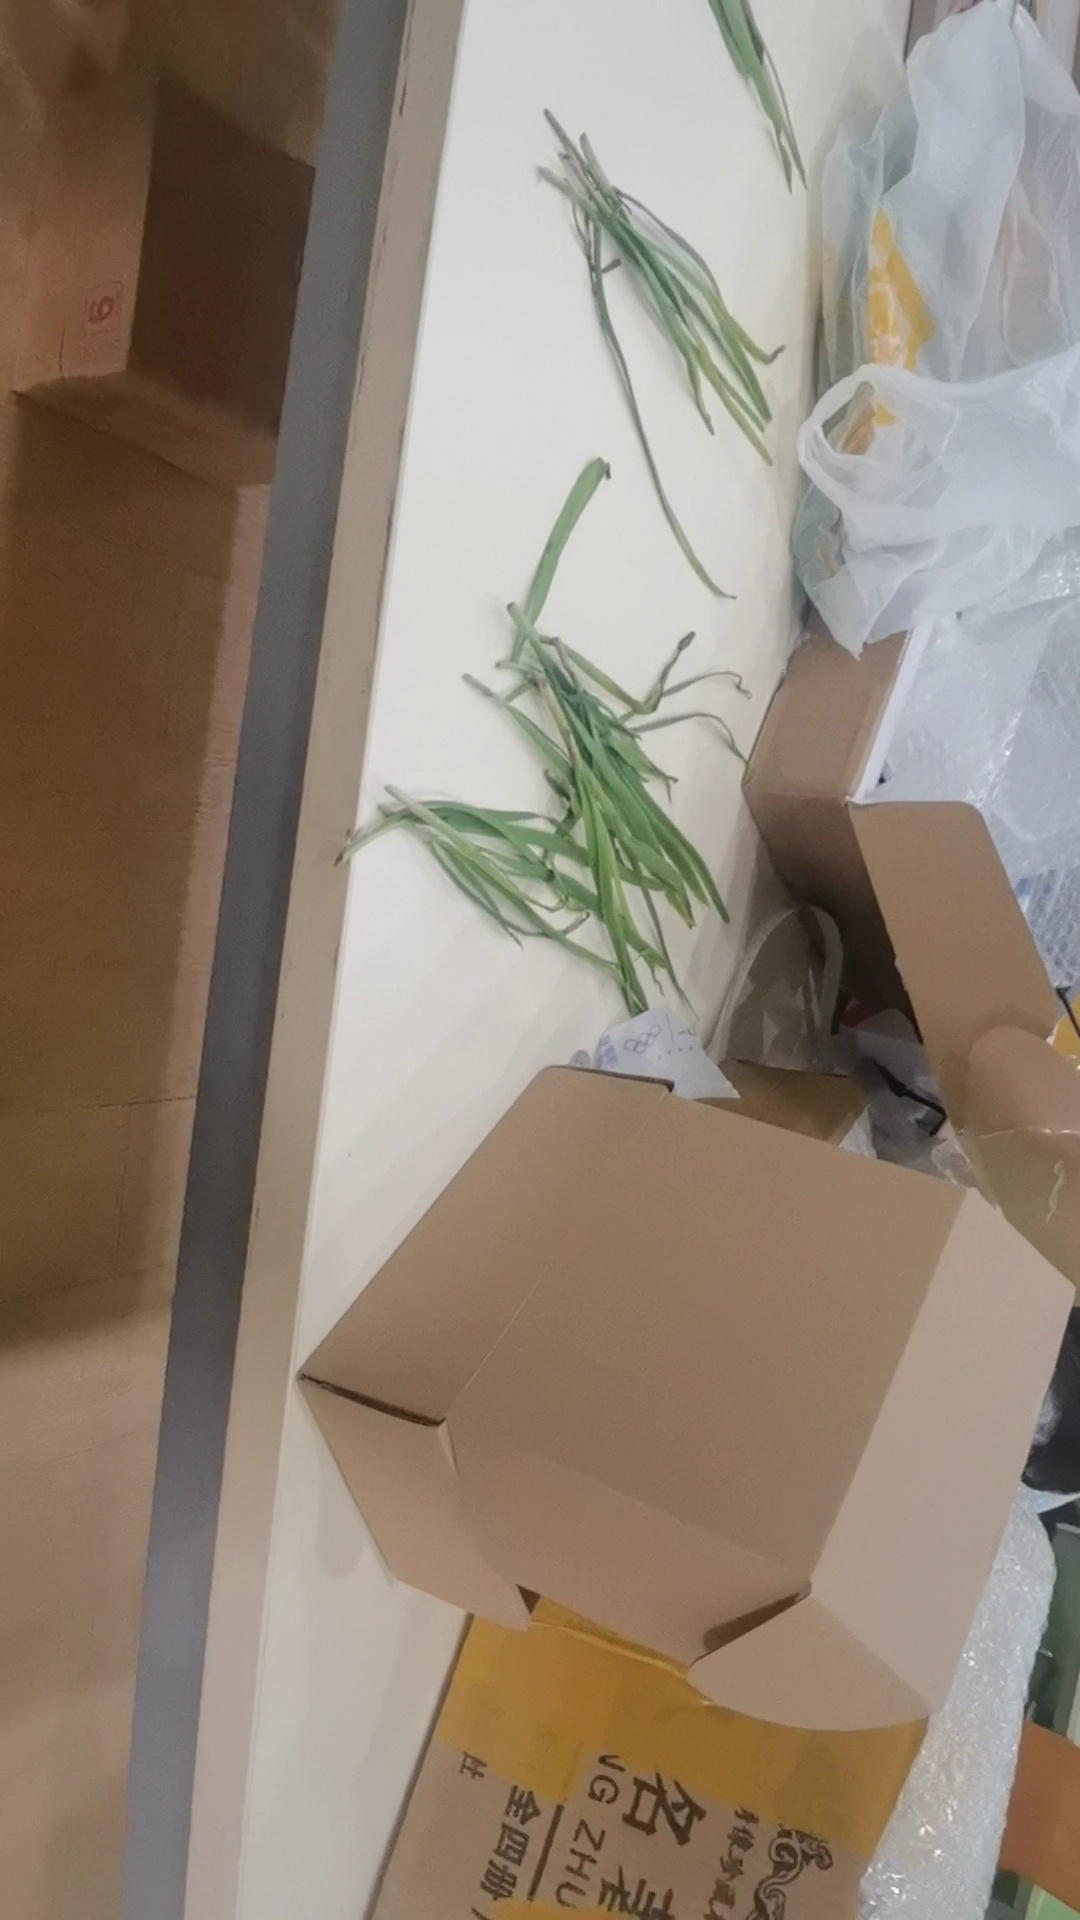chives: (363, 458, 820, 1064), (524, 121, 796, 547), (636, 1, 847, 222)
